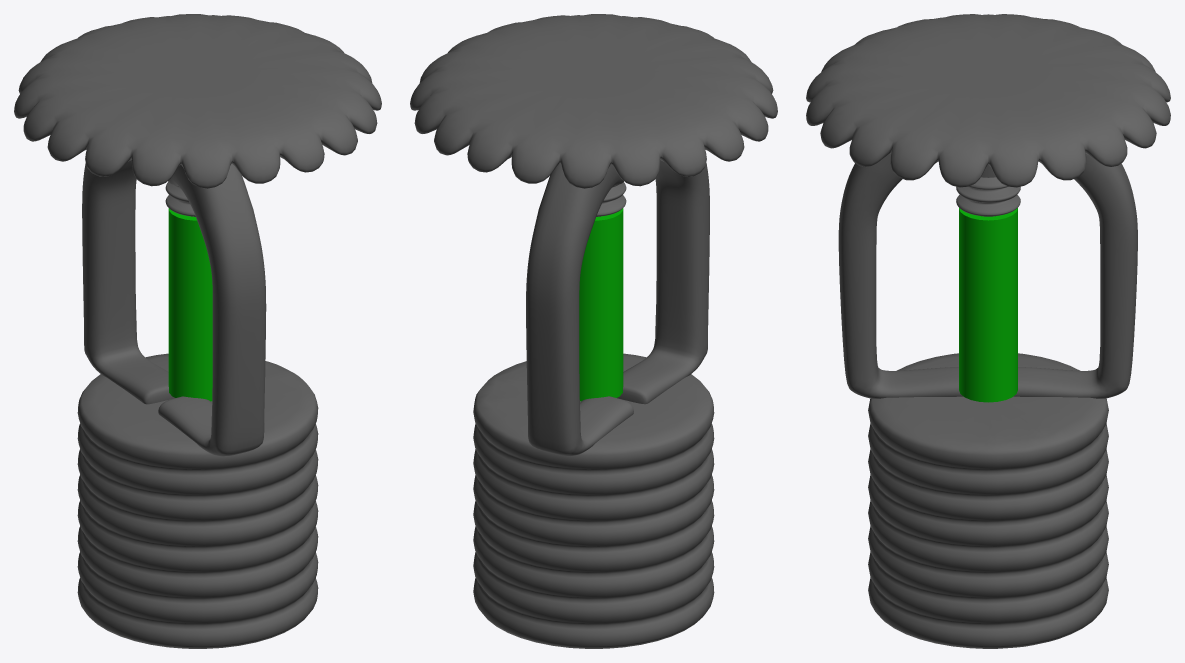
The model's file is shishkebab.glb.
The picture shows the model from 3 angles, left to right: view 1: azimuth 30°, elevation 25°; view 2: azimuth 150°, elevation 25°; view 3: azimuth 270°, elevation 25°; orthographic projection.
Visible parts, largest first — view 1: 消防_灭火器07; view 2: 消防_灭火器07; view 3: 消防_灭火器07.
Boxes of the visible parts, x1=… form: 消防_灭火器07: x1=14, y1=14, x2=381, y2=648; 消防_灭火器07: x1=410, y1=14, x2=777, y2=648; 消防_灭火器07: x1=806, y1=14, x2=1170, y2=648.
Bounding box in the file's own units: 0.3066 × 0.4914 × 0.3066.
